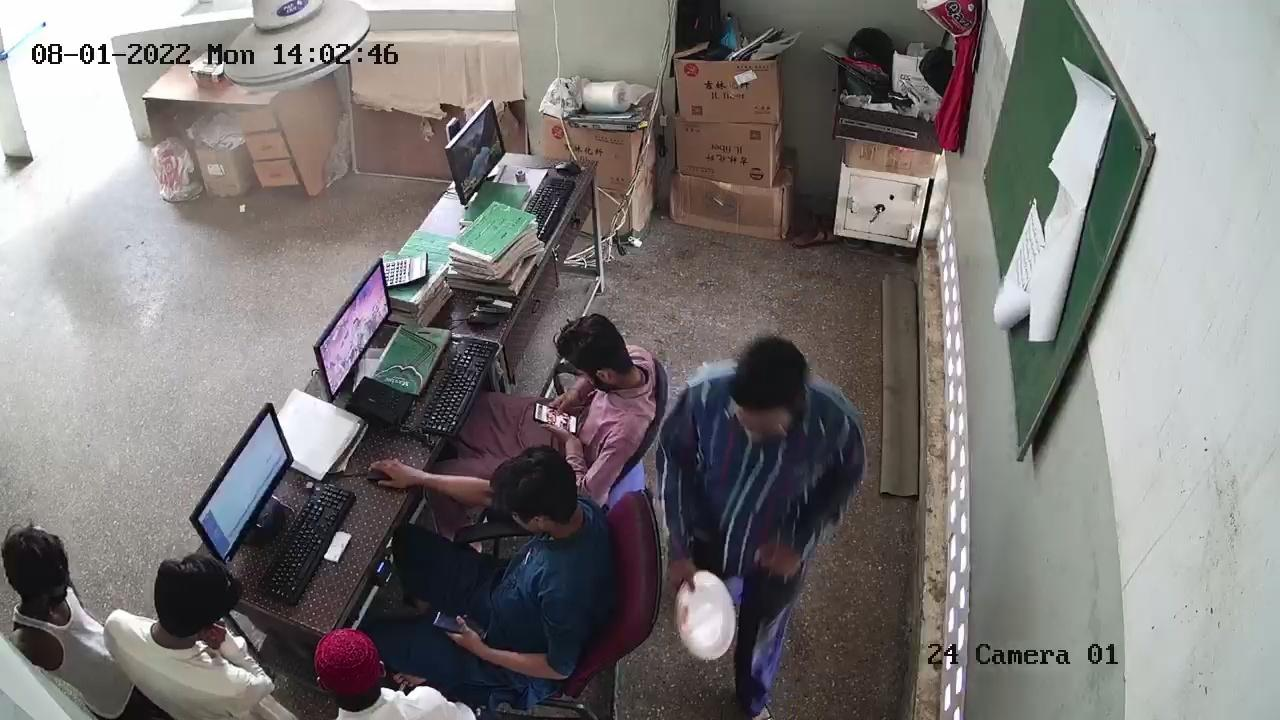person: (687, 343, 842, 695), (429, 438, 586, 658), (101, 558, 285, 707), (7, 532, 129, 708), (322, 630, 484, 720), (567, 315, 649, 443)
